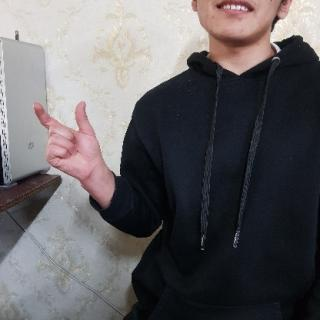NOON: (32, 97, 104, 191)
